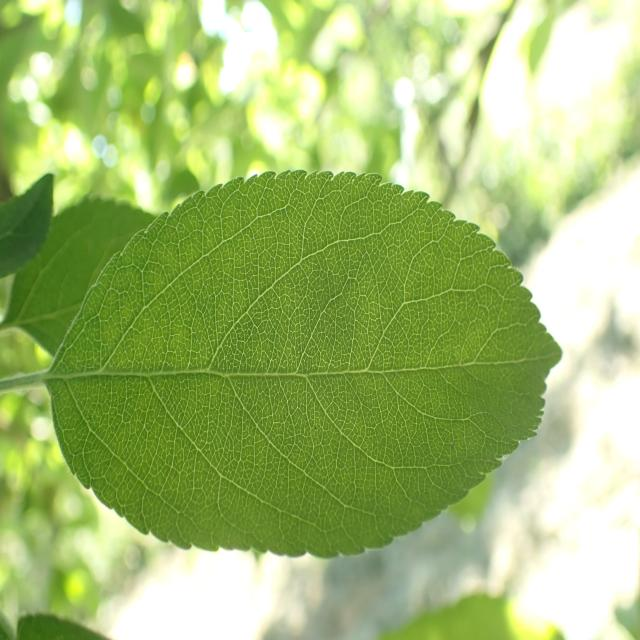healthy: (48, 169, 562, 560), (0, 193, 158, 358), (0, 172, 54, 279)
